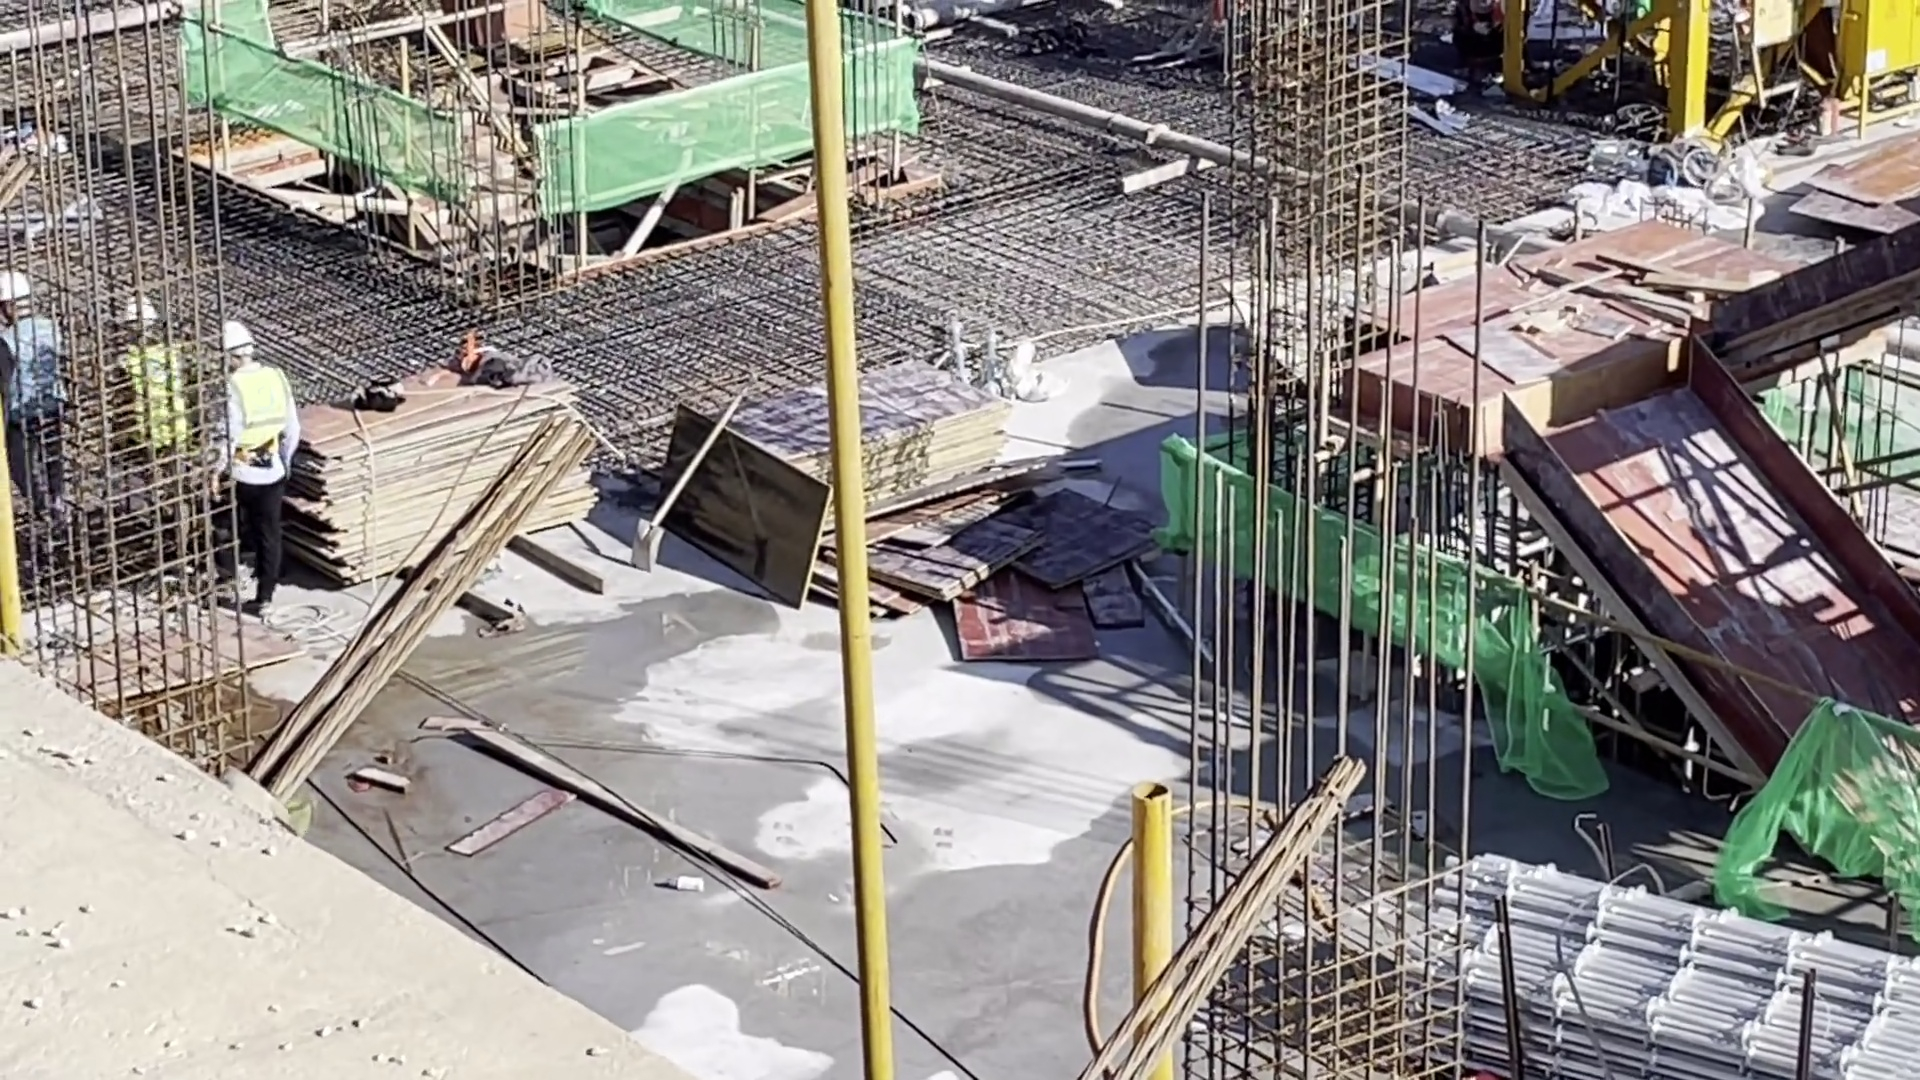board: (300, 353, 596, 579), (694, 356, 1002, 529), (1398, 298, 1691, 454)
ebox: (1833, 1, 1920, 138)
helmet: (224, 320, 254, 355), (122, 296, 155, 321), (1, 271, 29, 301)
person: (210, 319, 303, 624), (104, 295, 210, 497), (1, 268, 70, 508)
scaffold: (1480, 854, 1920, 1080)
vest: (126, 344, 191, 449), (229, 368, 285, 452)
